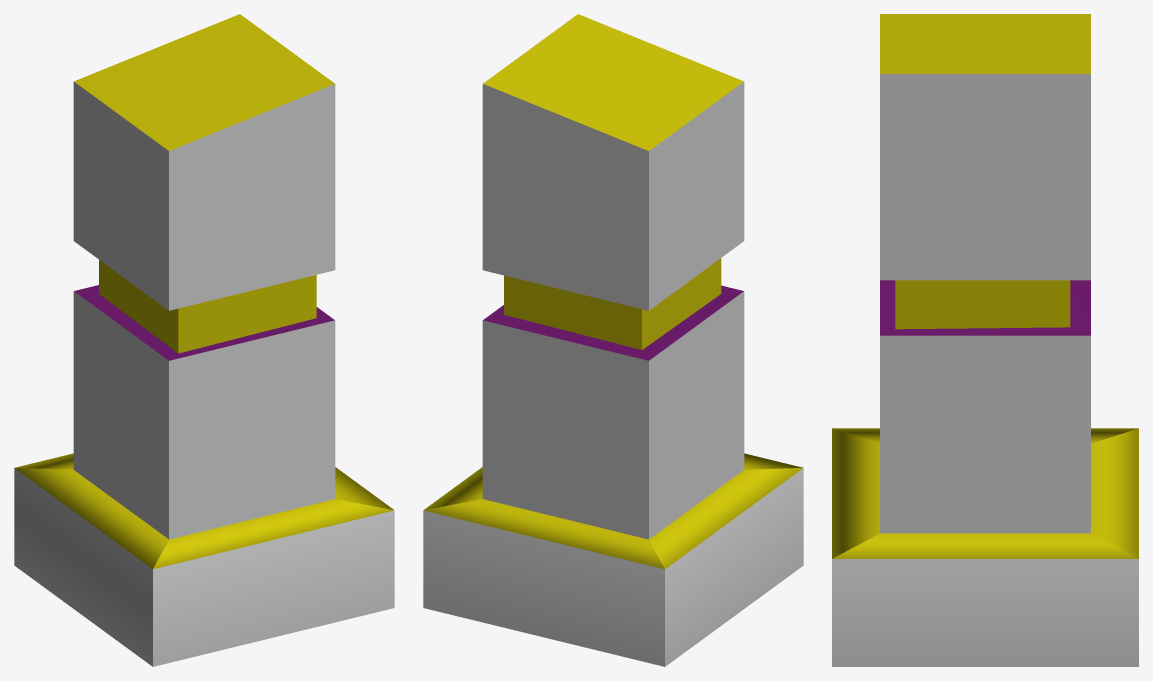
File: Pilar1.fbx
3 renders of one model, left to right at view 1: azimuth 30°, elevation 25°; view 2: azimuth 150°, elevation 25°; view 3: azimuth 270°, elevation 25°, orthographic. The views are drawn at different scales.
Visible parts, largest first — view 1: pCube2; view 2: pCube2; view 3: pCube2.
Part boxes in pixels (x1,y1,x2,y2): pCube2: (14, 14, 394, 666); pCube2: (423, 14, 803, 666); pCube2: (832, 14, 1138, 666).
Size of the model in its own units: 3.06 by 6.25 by 3.04.
